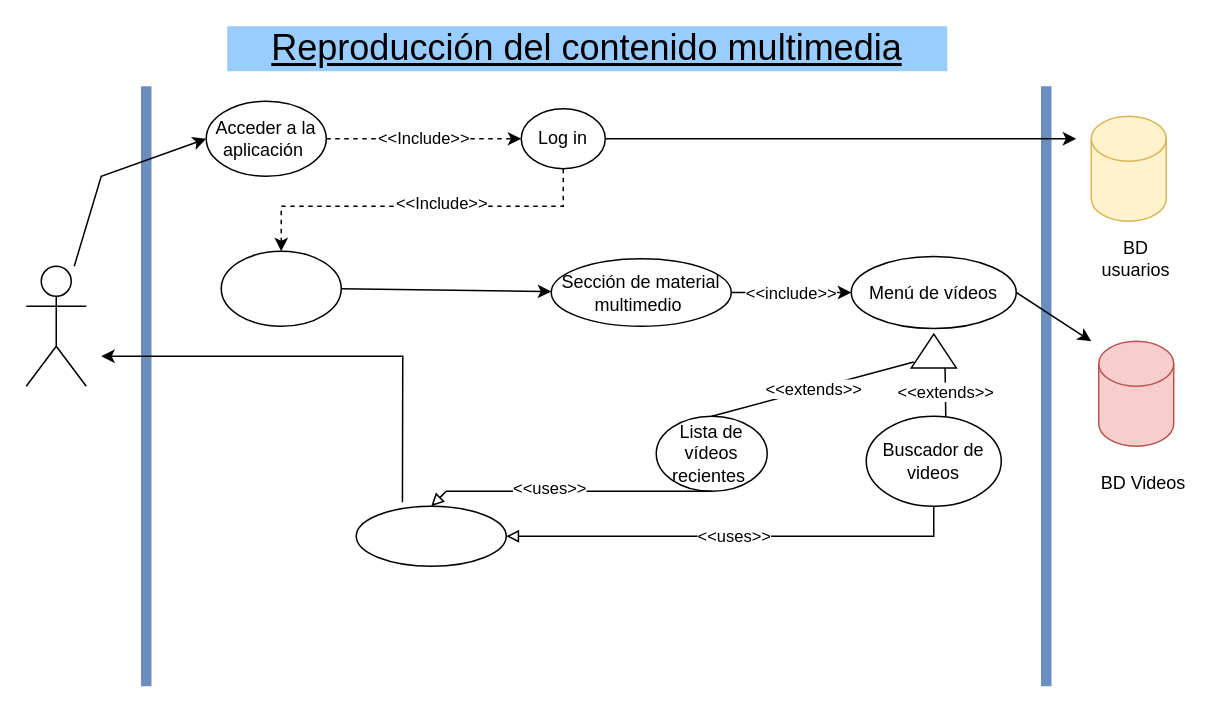
The diagram is 1215 pixels wide and 719 high, and some of its shapes have lost their labels. Each missing label, with the centre of its shape:
"Ingreso al menú principal" goes at point 280,288.
"Usuario" goes at point 55,325.
"vídeo a reproducirse" goes at point 430,535.
